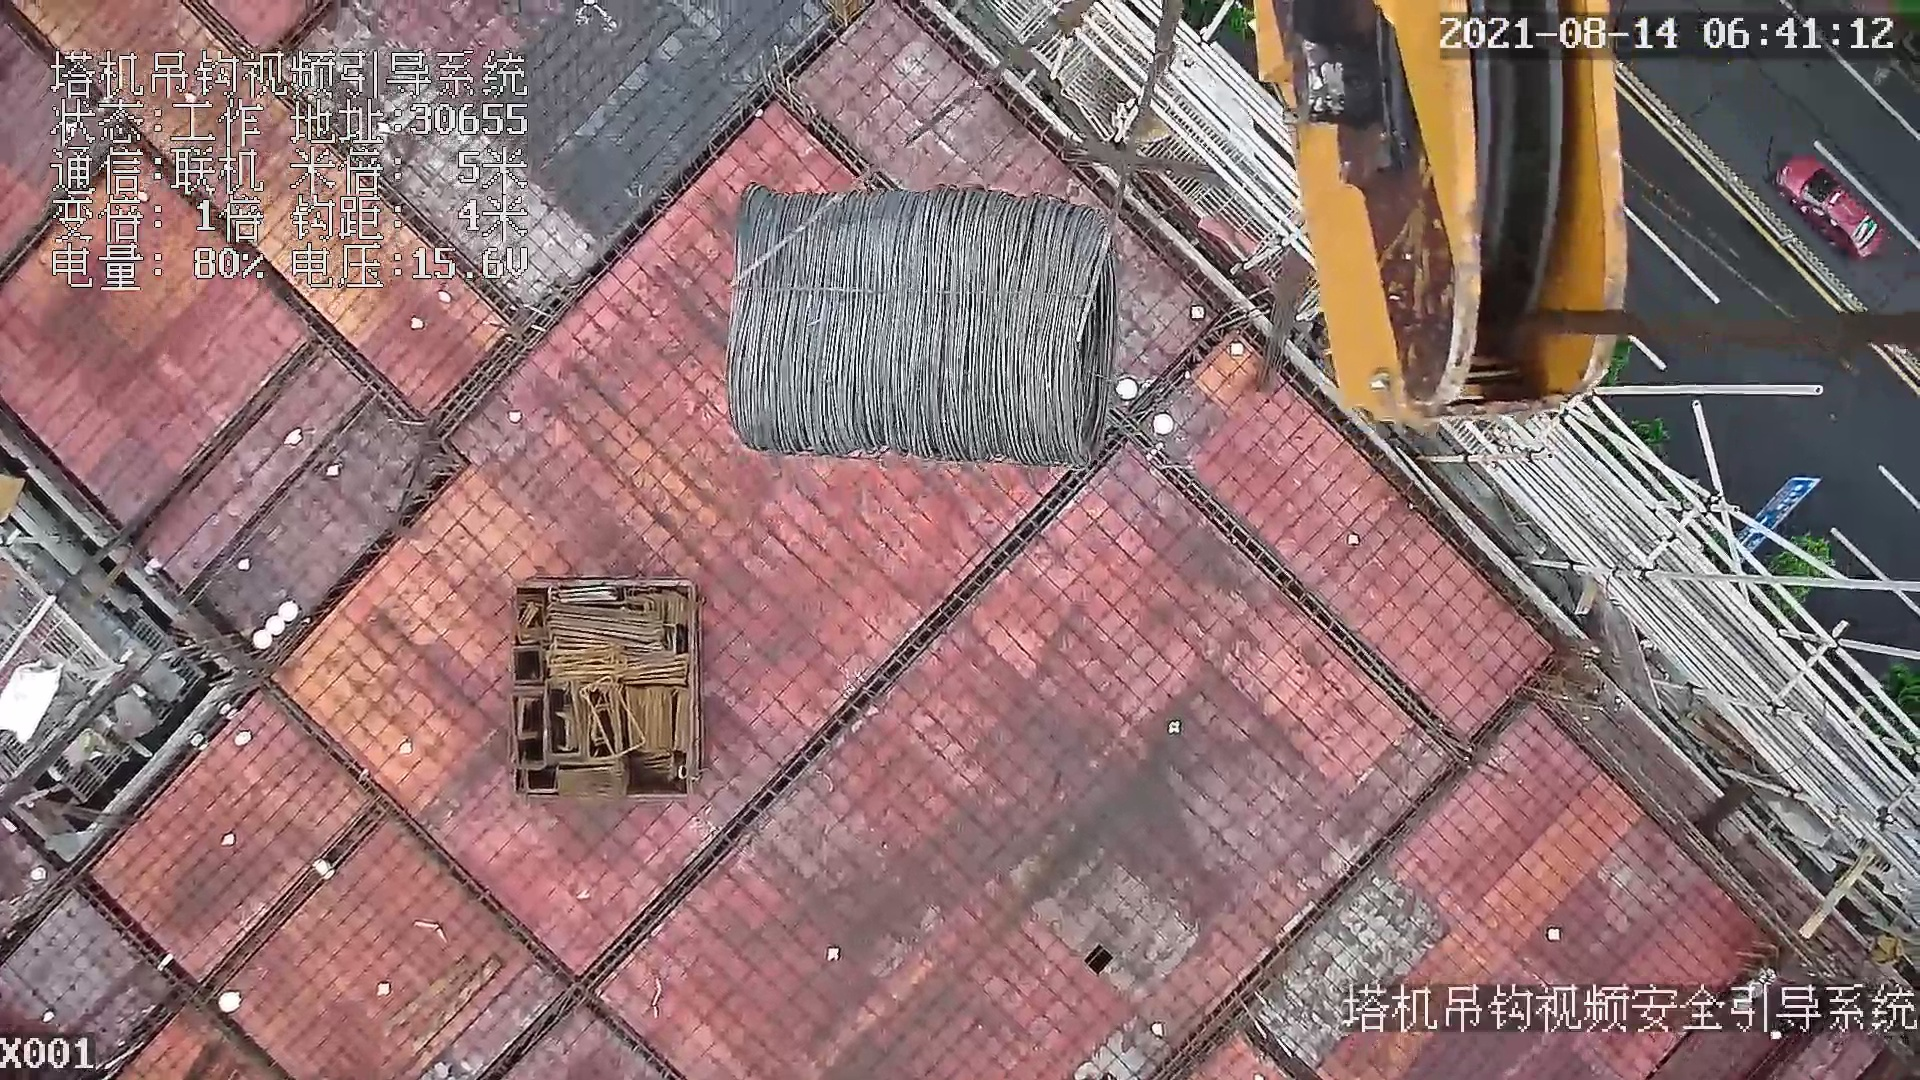hook: (1215, 1, 1636, 404)
